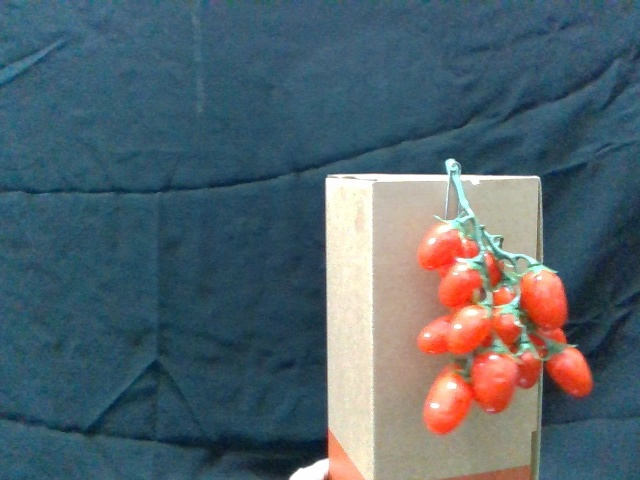tomato: (423, 363, 471, 434), (519, 260, 569, 328), (472, 346, 517, 415), (546, 341, 596, 401), (447, 300, 496, 355), (423, 212, 468, 267), (438, 255, 485, 307), (495, 300, 527, 344), (515, 337, 542, 389), (420, 314, 449, 355)
